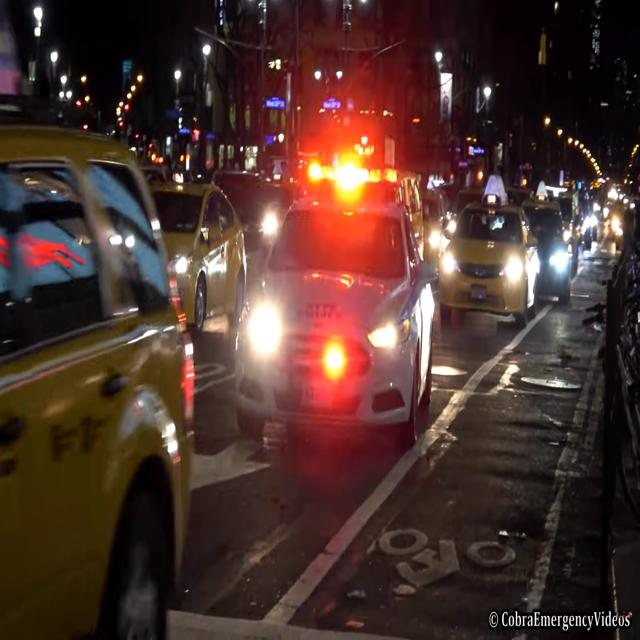emergency-vehicles: (218, 133, 443, 497)
